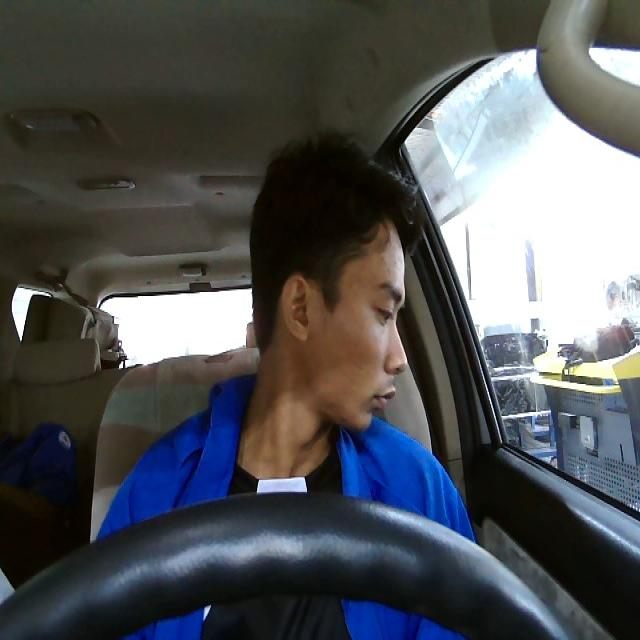seeing_right: (278, 212, 410, 432)
